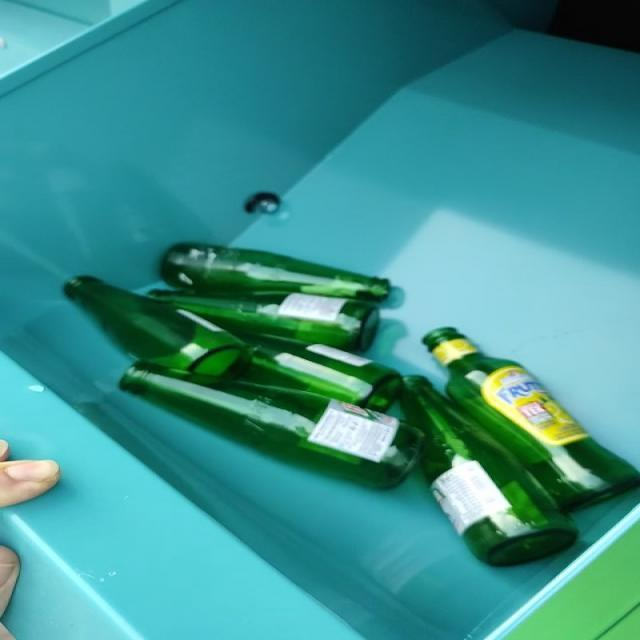Glass: (67, 244, 639, 566)
